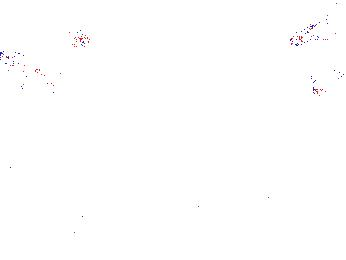red belly glassfish: (62, 25, 89, 49)
redtail glassfish: (286, 7, 344, 47), (1, 65, 60, 97), (308, 65, 346, 95), (1, 49, 43, 73)
siberian prawn: (28, 211, 106, 242)
